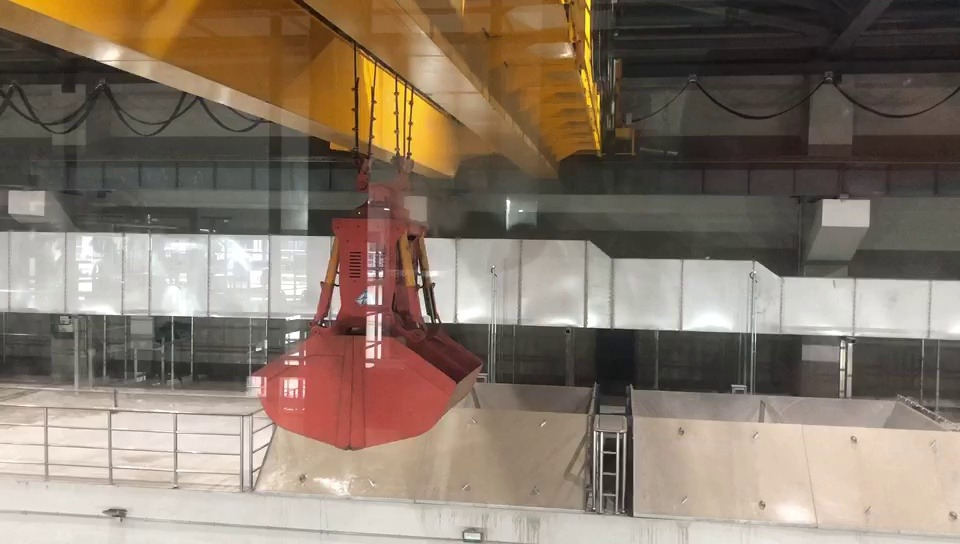grab: (238, 149, 494, 457)
